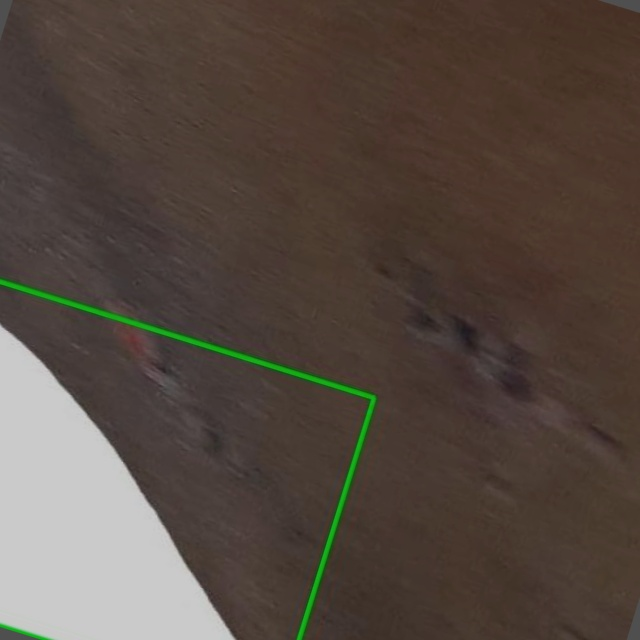Contact Dermatitis: (0, 282, 373, 639)
